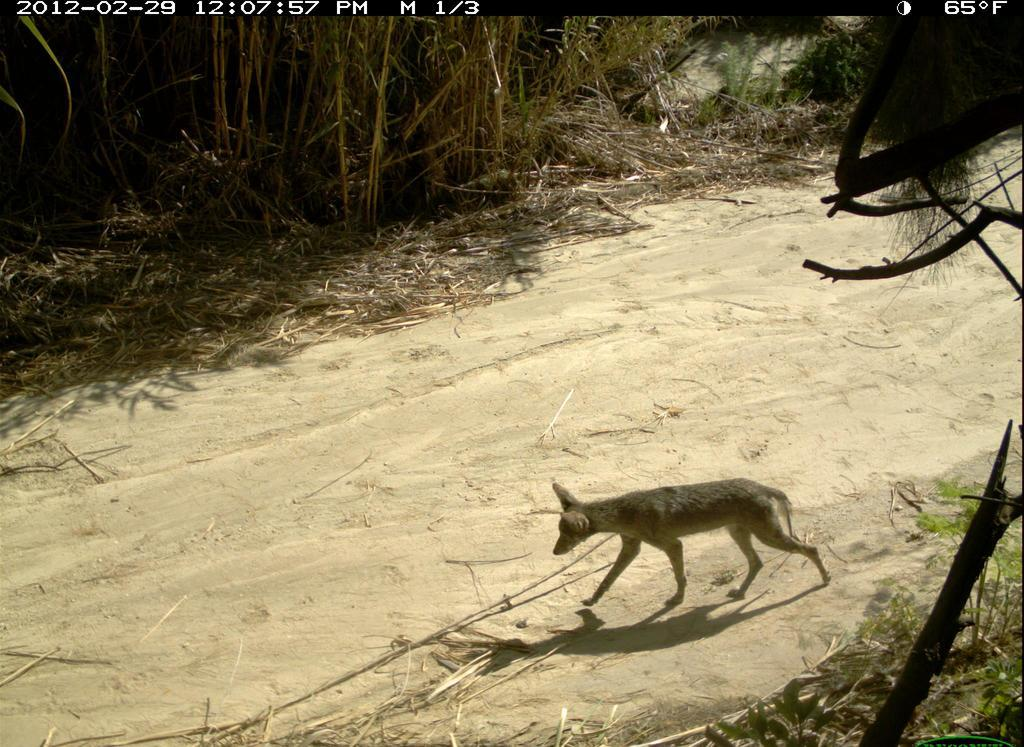coyote: (500, 457, 862, 641)
